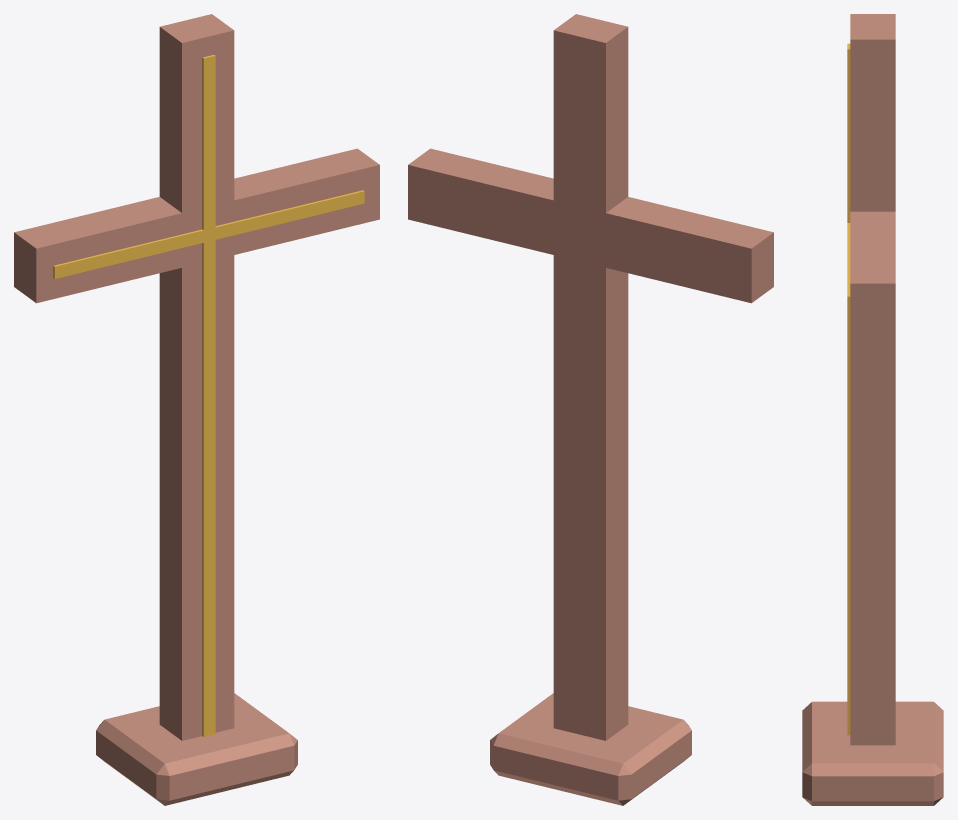
3 renders of one model, left to right at view 1: azimuth 30°, elevation 25°; view 2: azimuth 150°, elevation 25°; view 3: azimuth 270°, elevation 25°, orthographic.
Parts seen in each view (by area): view 1: Single joined wooden cross, Single joined inset cross, Stepped plinth; view 2: Single joined wooden cross, Stepped plinth; view 3: Single joined wooden cross, Stepped plinth, Single joined inset cross.
Part boxes in pixels (box(x1,y1,x2,y2)): Single joined wooden cross: box(14, 14, 379, 740); Single joined inset cross: box(53, 55, 364, 736); Stepped plinth: box(96, 693, 297, 805); Single joined wooden cross: box(408, 14, 773, 740); Stepped plinth: box(490, 693, 691, 805); Single joined wooden cross: box(850, 14, 895, 745); Stepped plinth: box(802, 701, 943, 805); Single joined inset cross: box(847, 43, 850, 735).
Size of the model in its own units: 102 by 210 by 36.
